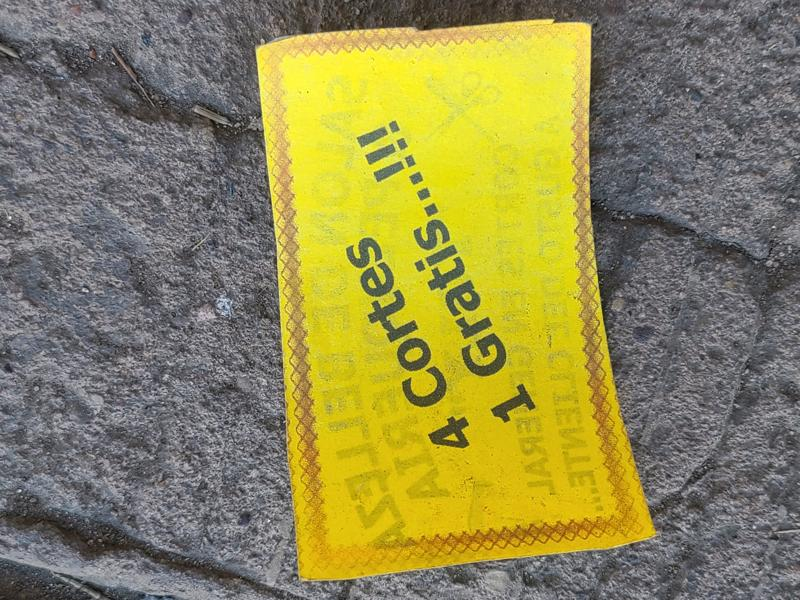papel: (253, 20, 658, 583)
